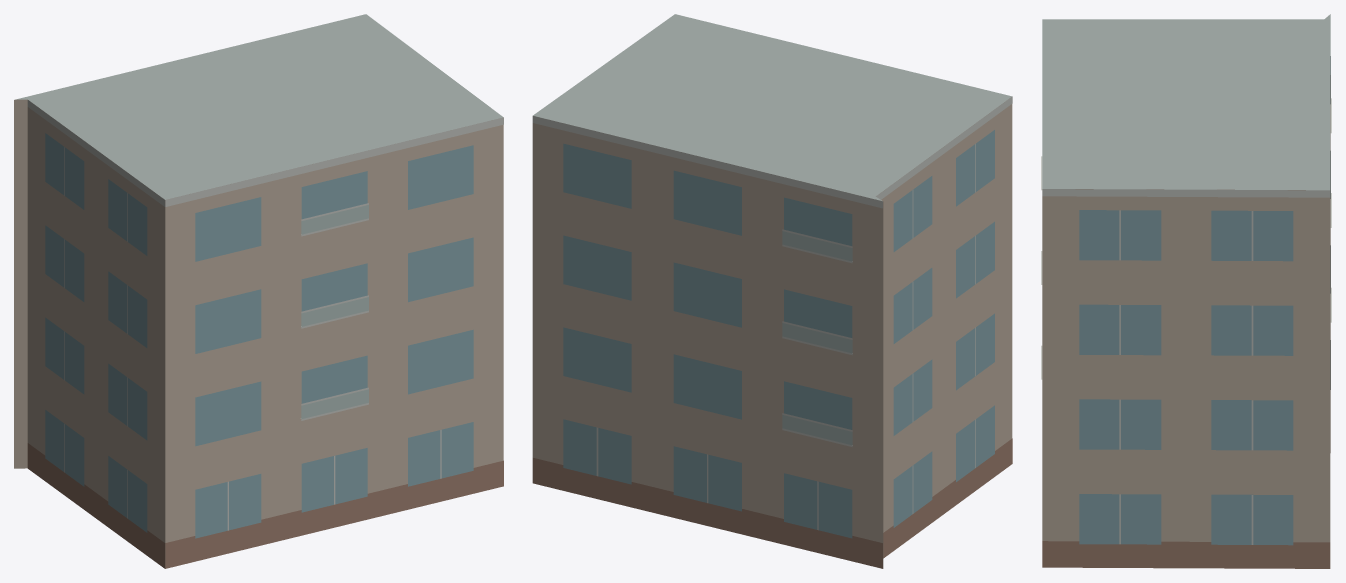
File: survey-upis-32823779.glb
3 views of the same model, side by side, from view 1: azimuth 30°, elevation 25°; view 2: azimuth 150°, elevation 25°; view 3: azimuth 270°, elevation 25° (orthographic). The views are drawn at different scales.
Visible parts, largest first — view 1: survey-upis-32823779.tmp; view 2: survey-upis-32823779.tmp; view 3: survey-upis-32823779.tmp.
Boxes of the visible parts, bbox=[...] form: survey-upis-32823779.tmp: bbox=[14, 14, 503, 568]; survey-upis-32823779.tmp: bbox=[532, 14, 1012, 568]; survey-upis-32823779.tmp: bbox=[1041, 14, 1331, 568].
Size of the model in its own units: 12.39 by 12.4 by 8.63.
